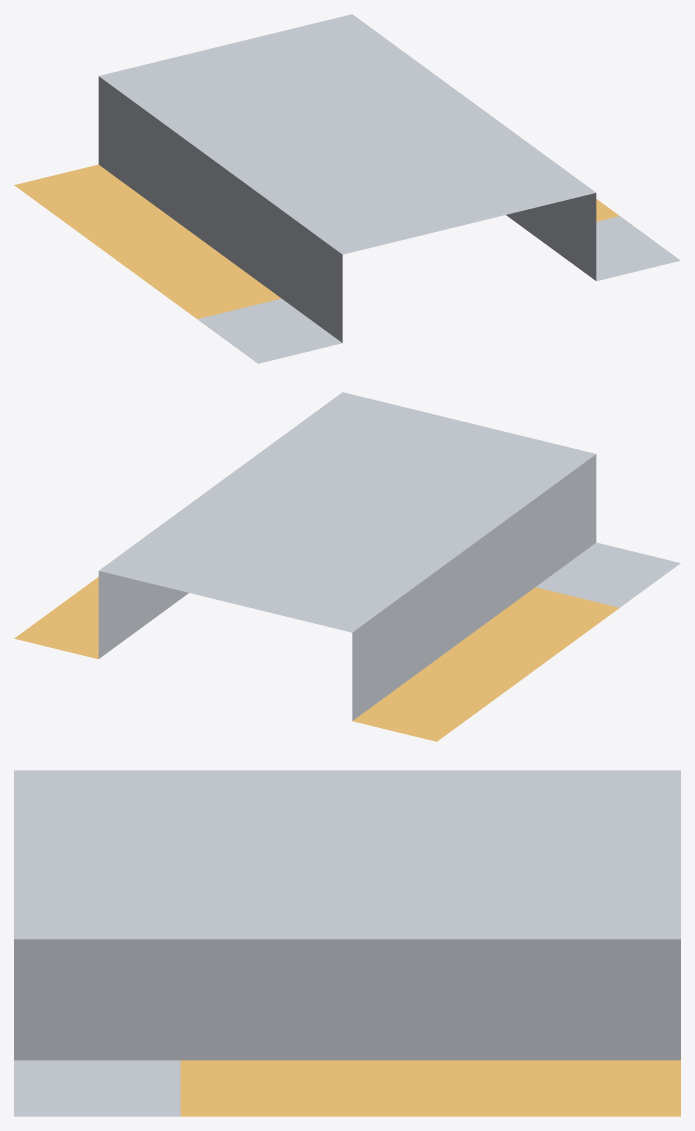
3 renders of one model, top to bottom at view 1: azimuth 30°, elevation 25°; view 2: azimuth 150°, elevation 25°; view 3: azimuth 270°, elevation 25°, orthographic. The views are drawn at different scales.
Size of the model in its own units: 1 by 0.2 by 1.
